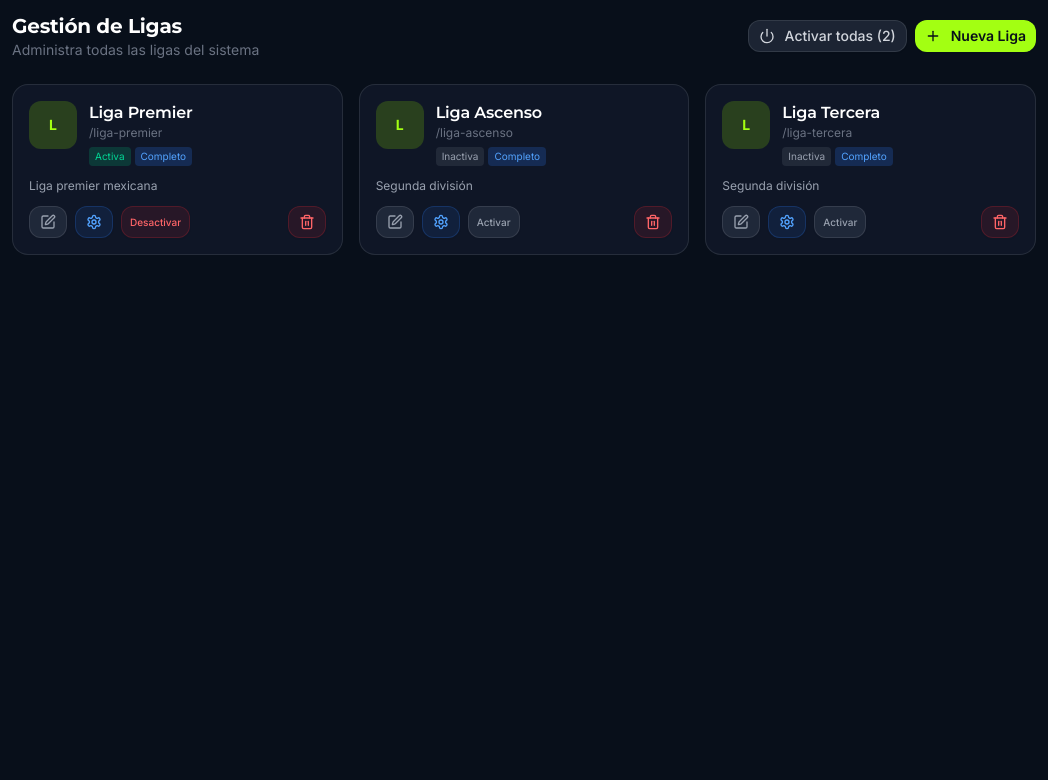
Test: Activate all › activates every inactive league with PATCH status and reports the result
Click the button "Activar todas (2)". click: click(827, 36)
box: [748,20,907,52]
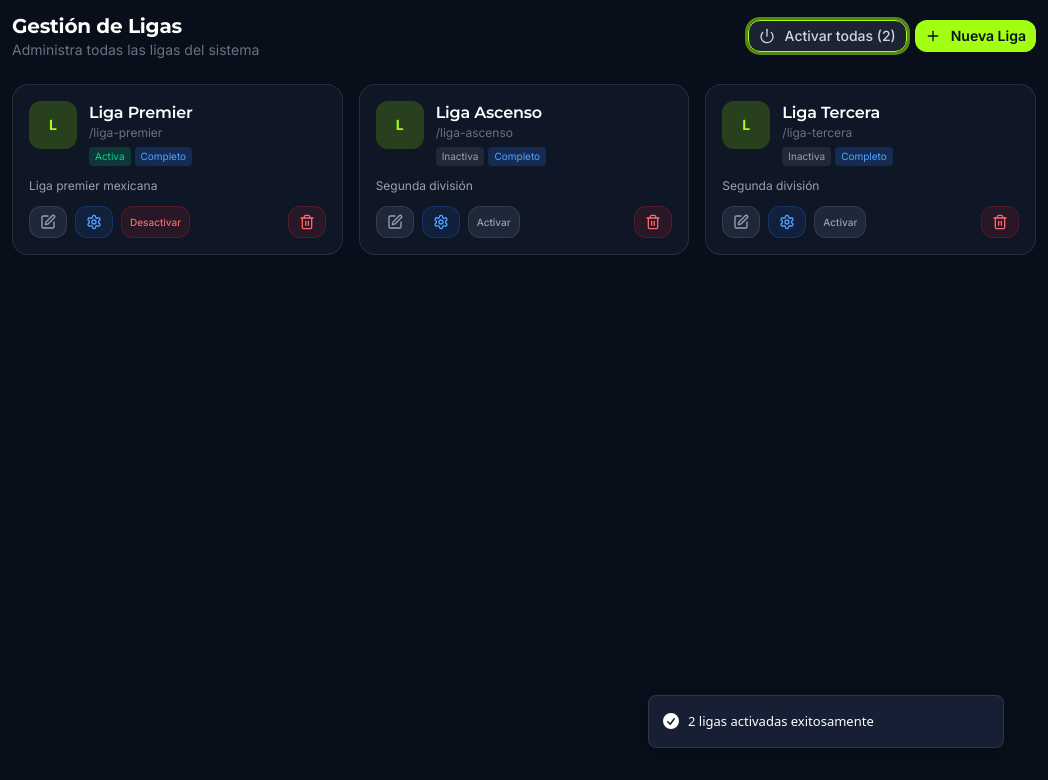
Check: the text "2 ligas activadas exitosamente" is shown, box [688,712,874,731]
